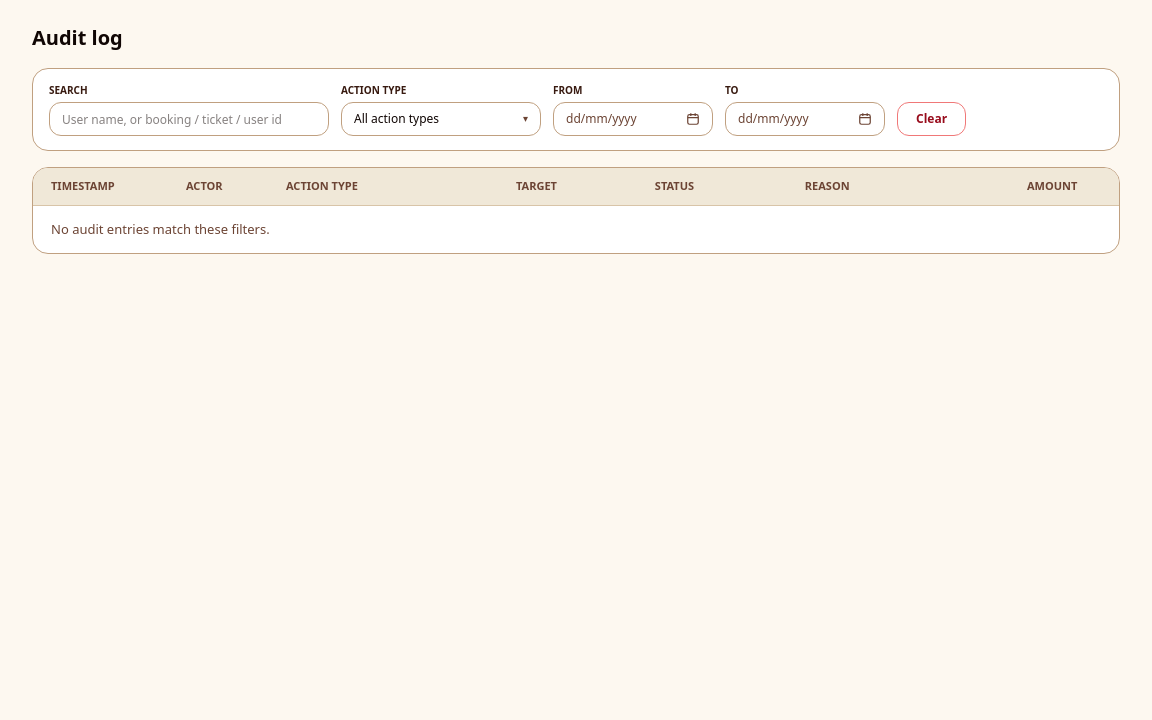
Test case: AuditLogView (F11, F15) › applies a date change at once and Clear resets every filter
Expected: the text "No audit entries match these filters." is shown, [51,220,270,238]
Click the button with aria-label "From". click: coordinates (617, 119)
box: [554,103,680,135]
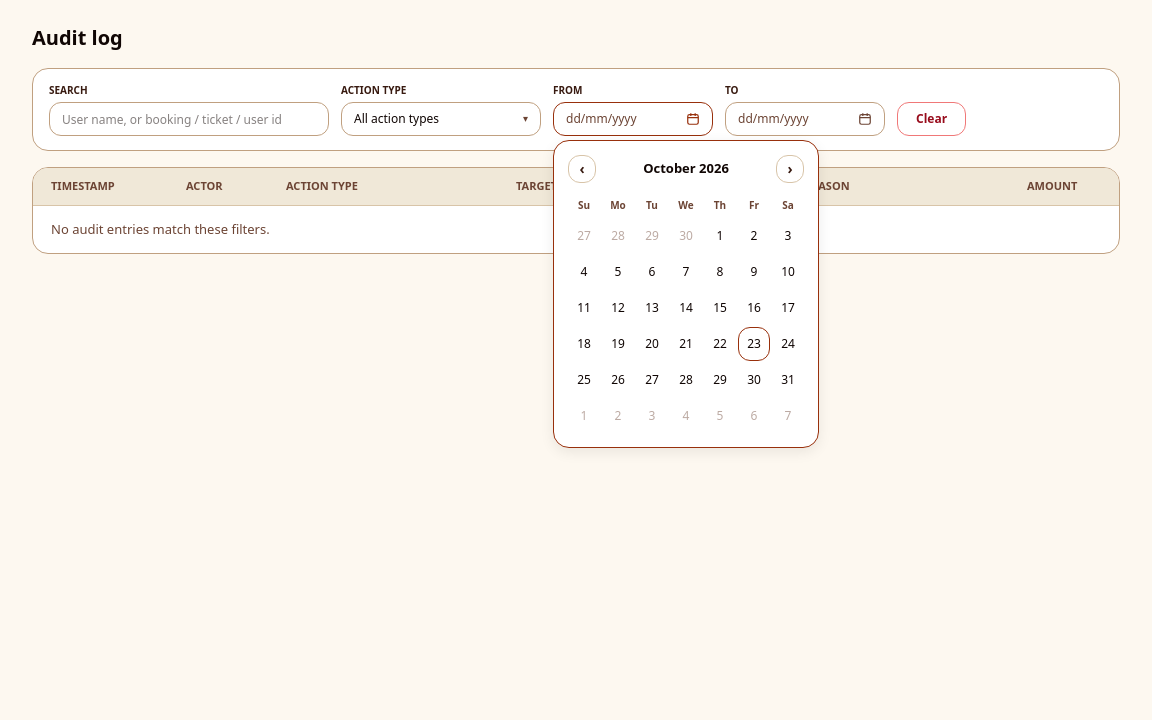
Click the button named "2026-10-01". click: coordinates (720, 236)
box: [704,219,736,253]
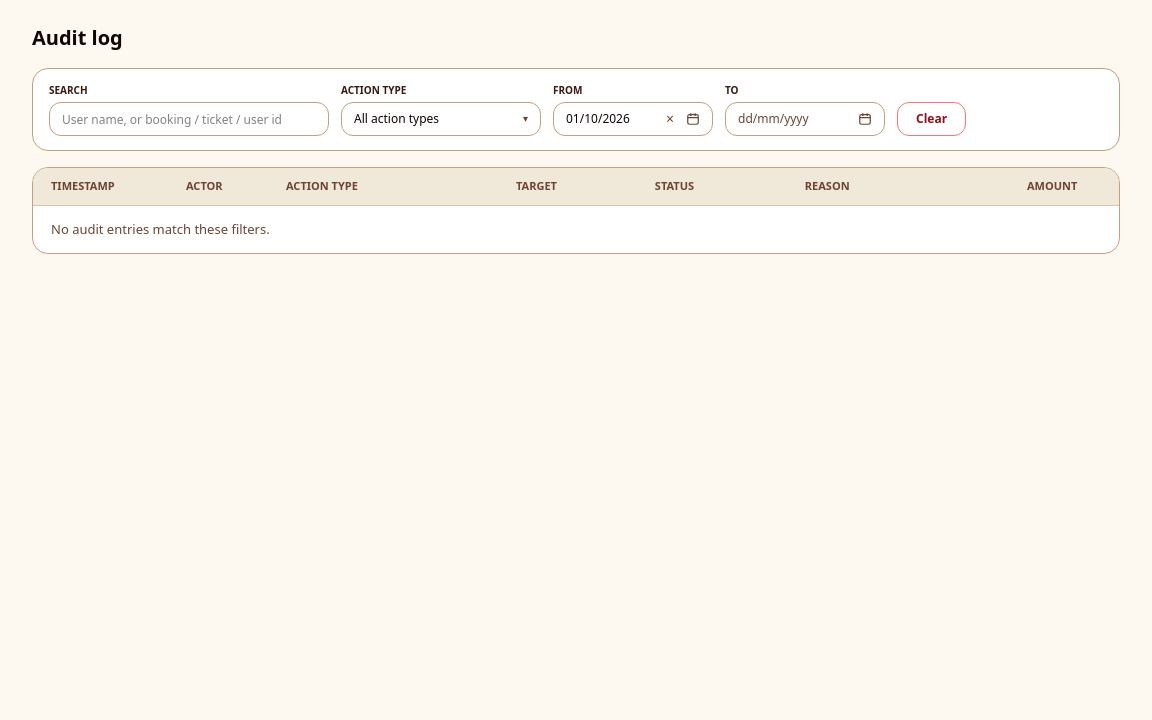
Click the button "Clear". click: coordinates (932, 119)
box: [897,102,966,136]
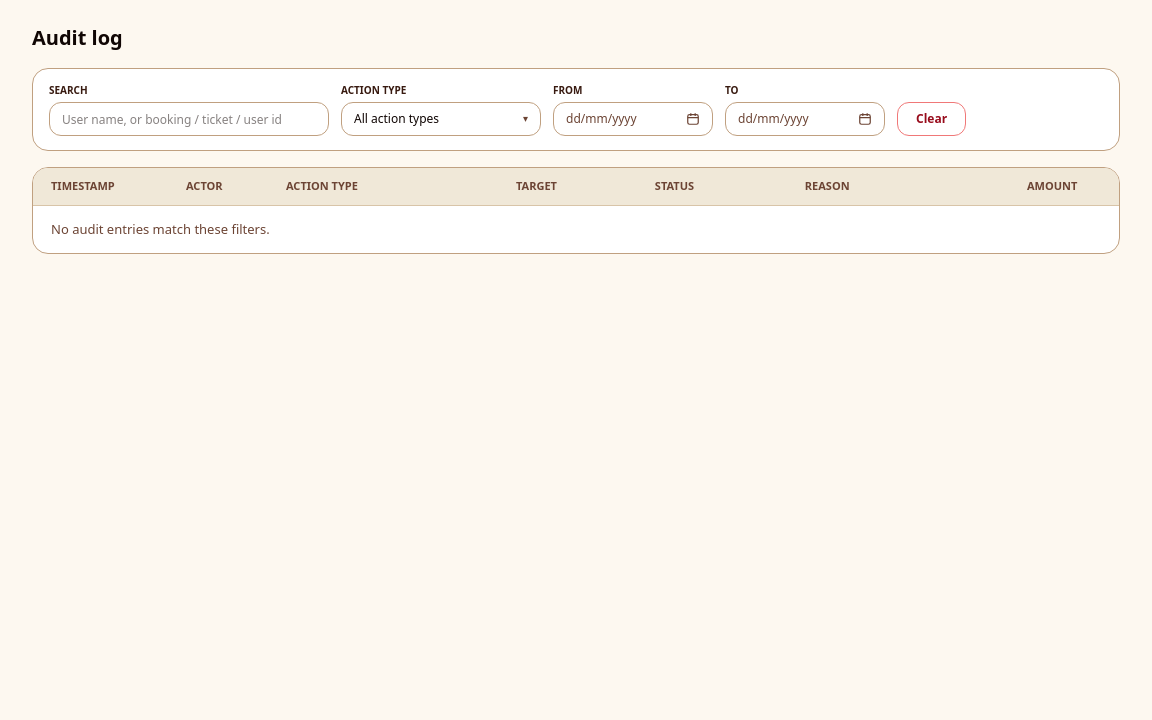
Expected: the button with aria-label "From" reads "dd/mm/yyyy", [554,103,680,135]
